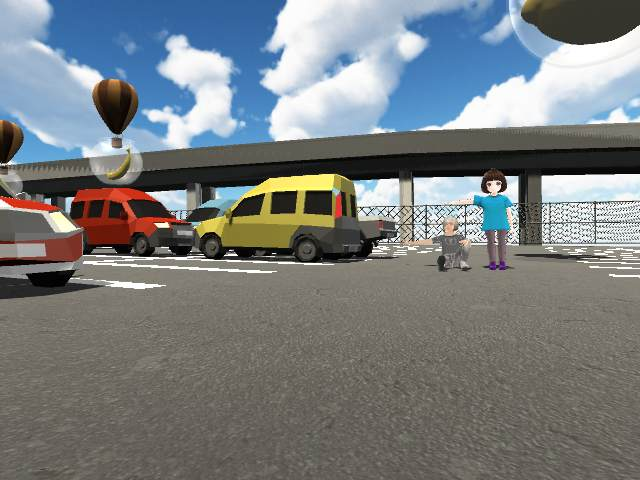doubleP_left: (398, 167, 519, 273)
